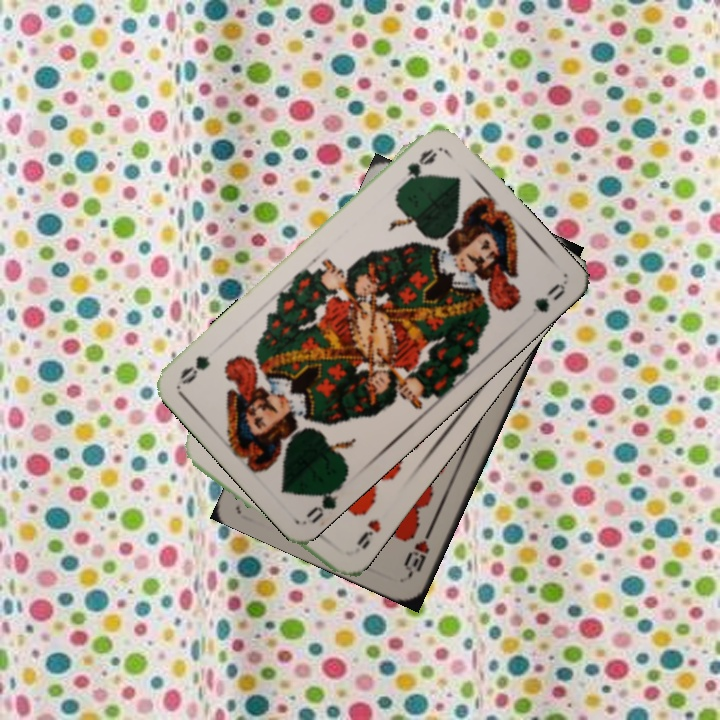GO: (302, 476, 348, 526), (395, 144, 440, 191)
H10: (400, 523, 435, 580)
H9: (352, 515, 384, 552)
